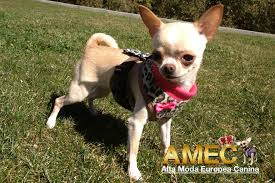chihuahua: (52, 3, 243, 165)
